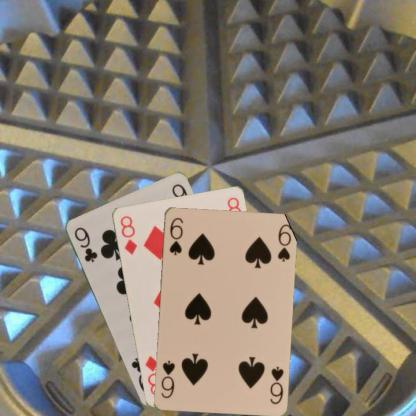6s: (166, 214, 184, 257), (267, 363, 285, 405)
8d: (117, 213, 138, 256)
9c: (71, 224, 99, 264)
